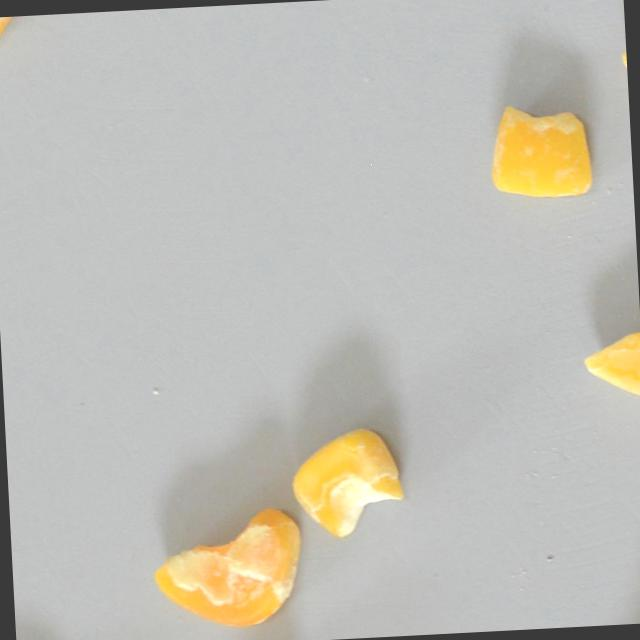pelicula: (171, 495, 297, 640), (289, 425, 405, 542), (477, 92, 594, 206), (582, 320, 640, 417), (0, 14, 51, 41)
